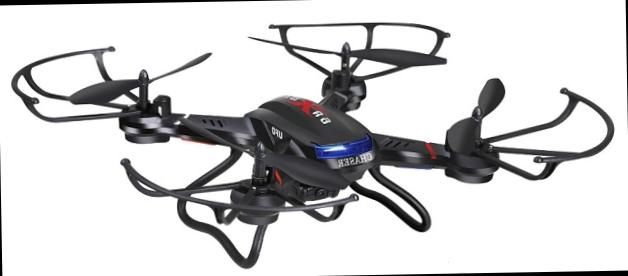drone: (10, 5, 598, 254)
